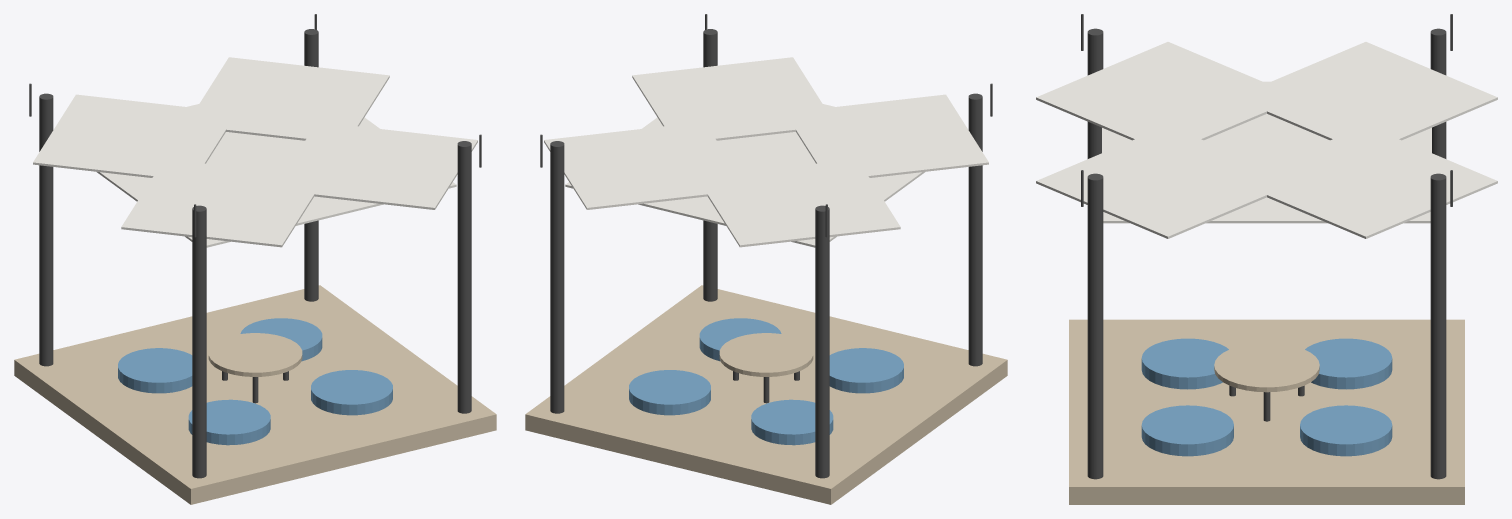
3 views of the same model, side by side, from view 1: azimuth 30°, elevation 25°; view 2: azimuth 150°, elevation 25°; view 3: azimuth 270°, elevation 25° (orthographic). The views are drawn at different scales.
Visible parts, largest first — view 1: Wood_Platform, Canvas_Drape_3, Canvas_Drape_4, Canvas_Drape_1, Canvas_Drape_2, Canvas_Center, Metal_Pole_1_-1, Metal_Pole_-1_-1, Metal_Pole_-1_1, Table_Top, Floor_Cushion_3, Floor_Cushion_2 (+3 smaller); view 2: Wood_Platform, Canvas_Drape_1, Canvas_Drape_2, Canvas_Drape_4, Canvas_Drape_3, Canvas_Center, Metal_Pole_1_1, Metal_Pole_-1_1, Metal_Pole_-1_-1, Table_Top, Floor_Cushion_1, Floor_Cushion_4 (+3 smaller); view 3: Wood_Platform, Canvas_Drape_1, Canvas_Drape_4, Canvas_Drape_3, Canvas_Drape_2, Canvas_Center, Metal_Pole_1_-1, Metal_Pole_1_1, Table_Top, Floor_Cushion_1, Floor_Cushion_3, Floor_Cushion_2 (+3 smaller).
Boxes of the visible parts, <box> form: Wood_Platform: <box>14,285,496,504</box>; Canvas_Drape_3: <box>186,57,389,143</box>; Canvas_Drape_4: <box>33,94,225,180</box>; Canvas_Drape_1: <box>121,159,324,247</box>; Canvas_Drape_2: <box>285,126,477,209</box>; Canvas_Center: <box>97,104,456,247</box>; Metal_Pole_1_-1: <box>457,141,471,413</box>; Metal_Pole_-1_-1: <box>192,205,206,478</box>; Metal_Pole_-1_1: <box>39,93,53,366</box>; Table_Top: <box>208,333,302,376</box>; Floor_Cushion_3: <box>311,370,392,415</box>; Floor_Cushion_2: <box>118,348,192,393</box>; Wood_Platform: <box>525,285,1007,504</box>; Canvas_Drape_1: <box>785,94,988,180</box>; Canvas_Drape_2: <box>632,57,829,143</box>; Canvas_Drape_4: <box>697,163,900,247</box>; Canvas_Drape_3: <box>544,126,736,209</box>; Canvas_Center: <box>565,104,924,247</box>; Metal_Pole_1_1: <box>550,141,564,413</box>; Metal_Pole_-1_1: <box>815,205,829,478</box>; Metal_Pole_-1_-1: <box>968,93,982,366</box>; Table_Top: <box>719,333,813,376</box>; Floor_Cushion_1: <box>629,370,710,415</box>; Floor_Cushion_4: <box>829,348,903,393</box>; Wood_Platform: <box>1069,319,1464,504</box>; Canvas_Drape_1: <box>1036,42,1299,152</box>; Canvas_Drape_4: <box>1234,42,1497,152</box>; Canvas_Drape_3: <box>1235,127,1497,238</box>; Canvas_Drape_2: <box>1036,139,1299,238</box>; Canvas_Center: <box>1102,81,1431,223</box>; Metal_Pole_1_-1: <box>1087,173,1103,479</box>; Metal_Pole_1_1: <box>1430,173,1446,479</box>; Table_Top: <box>1214,343,1319,392</box>; Floor_Cushion_1: <box>1300,405,1392,456</box>; Floor_Cushion_3: <box>1141,405,1233,456</box>; Floor_Cushion_2: <box>1305,338,1392,389</box>.
Bounding box in the file's own units: 3.5 × 2.75 × 3.5.
